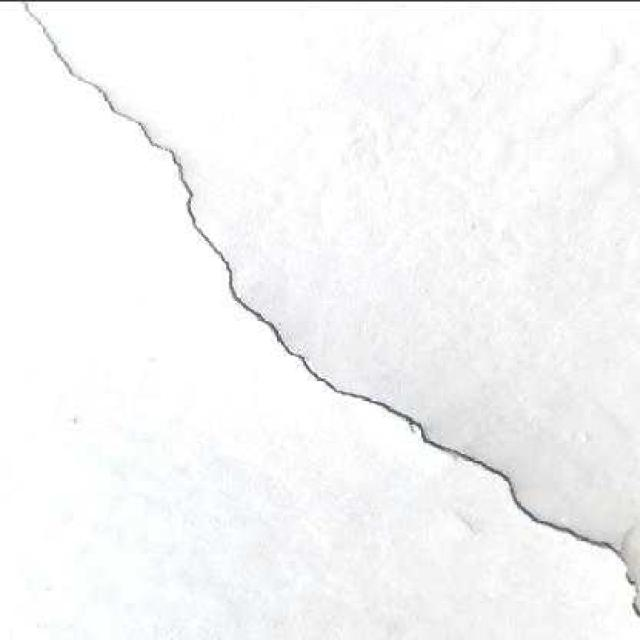D00: (17, 0, 640, 621)
